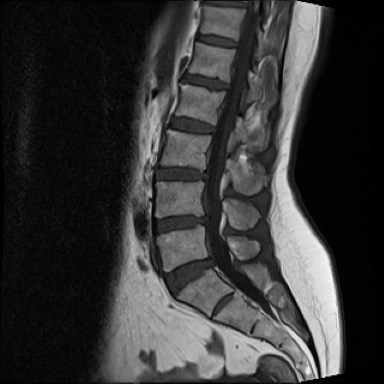Lumbar Disc Bulge (LDB): (160, 253, 221, 299), (152, 209, 217, 237), (153, 164, 215, 183)
Normal IVD: (166, 109, 223, 136), (183, 69, 236, 93), (192, 28, 244, 51)
Spinal Stenosis (SS): (198, 207, 217, 229), (199, 161, 215, 185), (203, 250, 219, 273)
